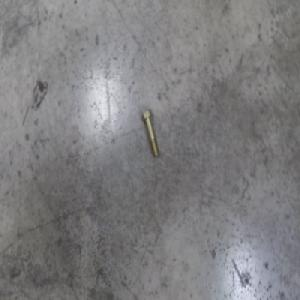Bolt: (137, 111, 155, 160)
